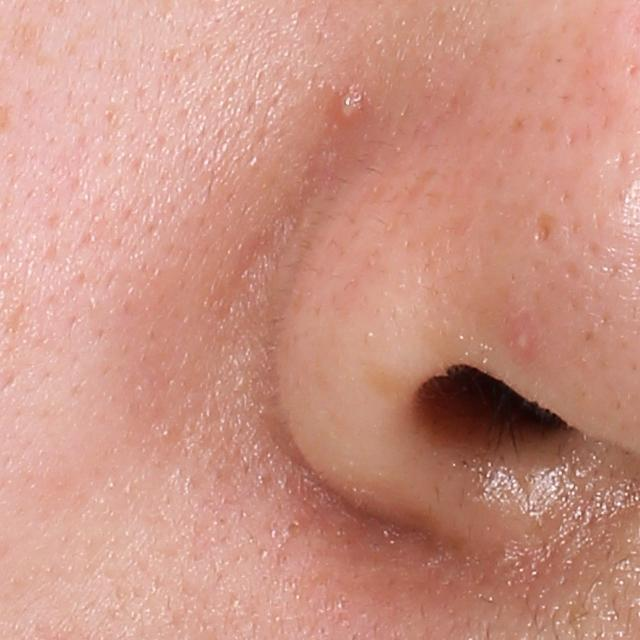atrophic_scar: (534, 216, 556, 248)
pustule: (336, 91, 370, 120)
